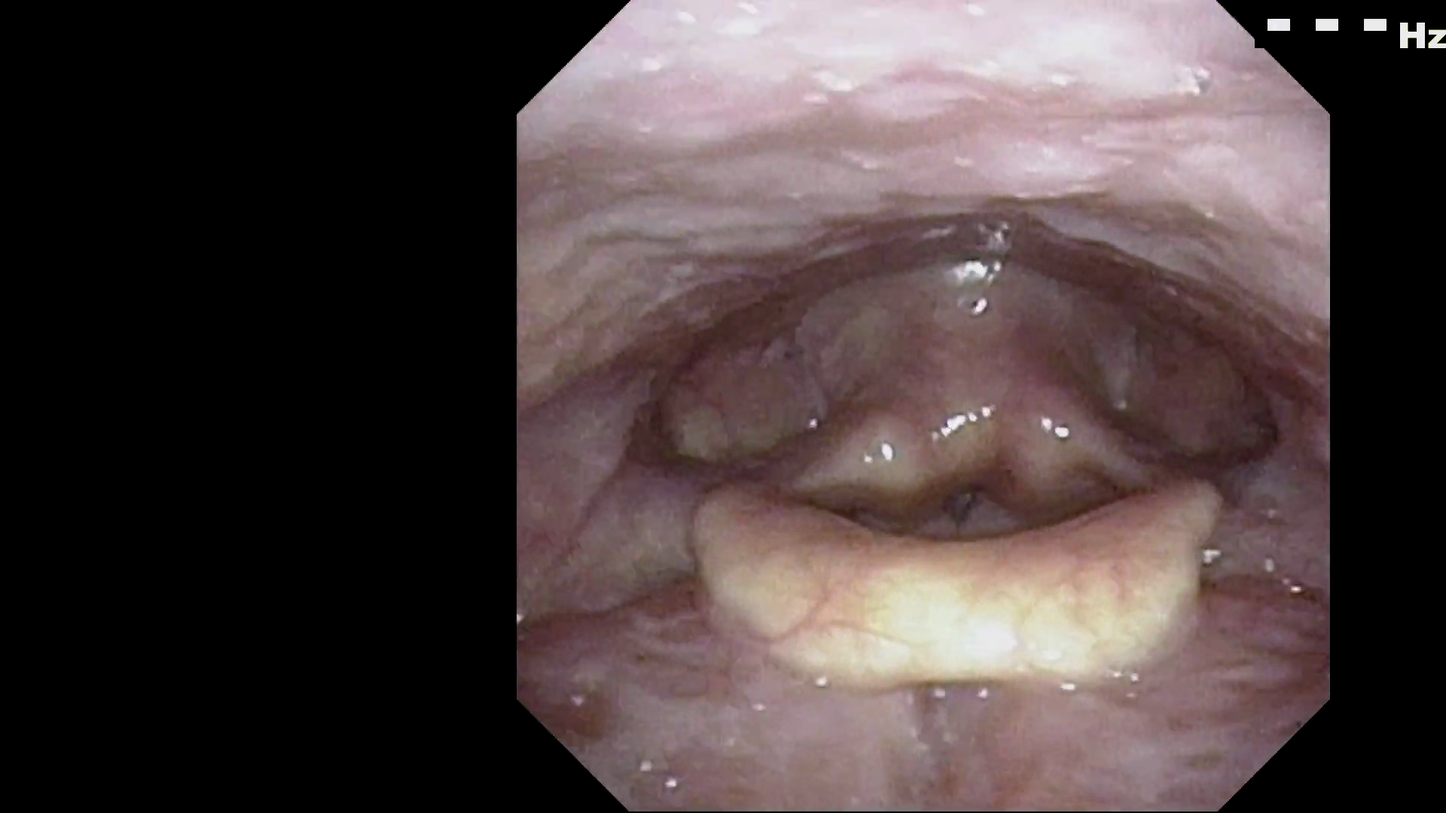epiglottis: (681, 459, 1228, 705)
trachea: (905, 433, 1020, 574)
